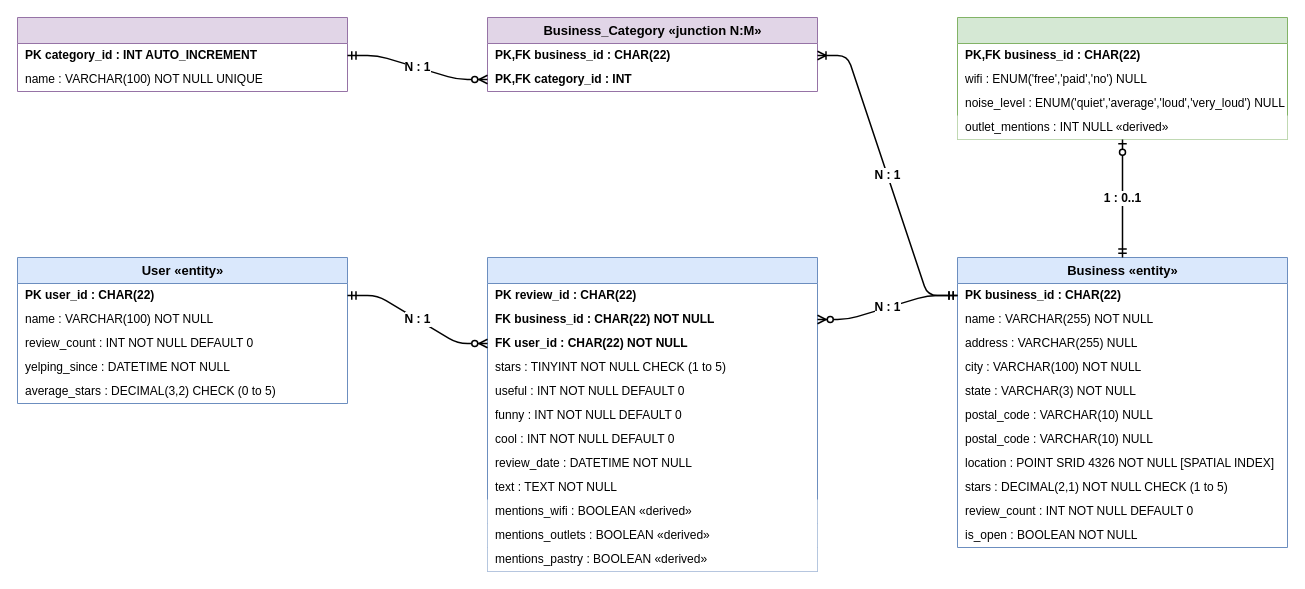
This 1305x589 diagram has some shape labels left out. The shapes that lost their labels are listed below. From the top down, each one's box as (x1, y1, x2, y2) in pixels, then its label:
(16, 16, 348, 92): Category «lookup»
(956, 16, 1288, 140): Business_Amenities «1:1 optional»
(486, 256, 818, 572): Review «entity»
